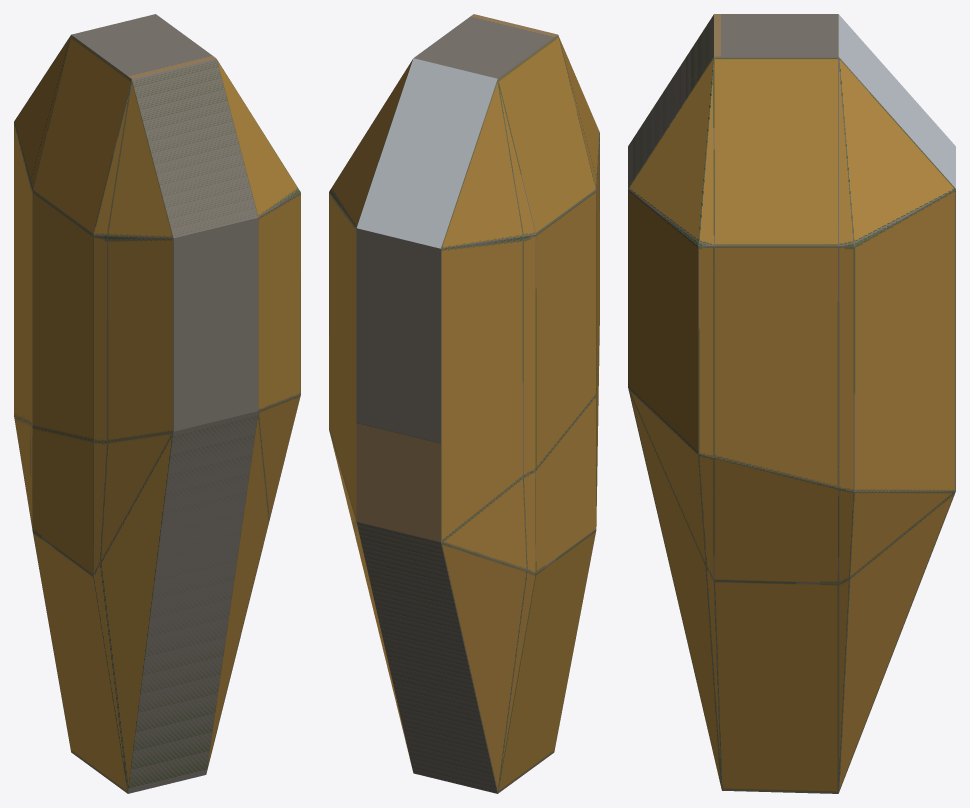
Rendered from RLeagAbove.fbx.
The picture shows the model from 3 angles, left to right: view 1: azimuth 30°, elevation 25°; view 2: azimuth 150°, elevation 25°; view 3: azimuth 270°, elevation 25°; orthographic projection. The views are drawn at different scales.
Visible parts, largest first — view 1: Shape_IndexedFaceSet.015; view 2: Shape_IndexedFaceSet.015, Shape_IndexedFaceSet.014; view 3: Shape_IndexedFaceSet.015, Shape_IndexedFaceSet.014.
Part boxes in pixels (x1,y1,x2,y2): Shape_IndexedFaceSet.015: (14, 14, 300, 793); Shape_IndexedFaceSet.015: (329, 14, 599, 793); Shape_IndexedFaceSet.014: (356, 58, 497, 248); Shape_IndexedFaceSet.015: (628, 14, 955, 793); Shape_IndexedFaceSet.014: (838, 14, 955, 188).
Bounding box in the file's own units: 0.1272 × 0.4361 × 0.1757.
